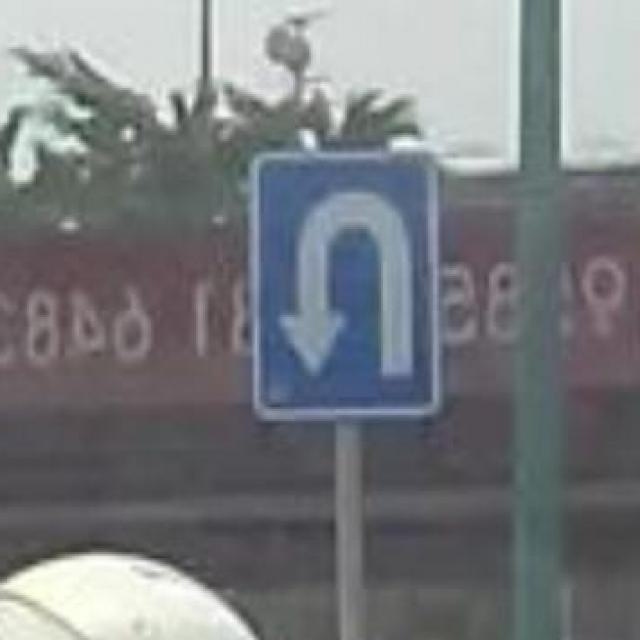U-turn: (253, 152, 440, 420)
